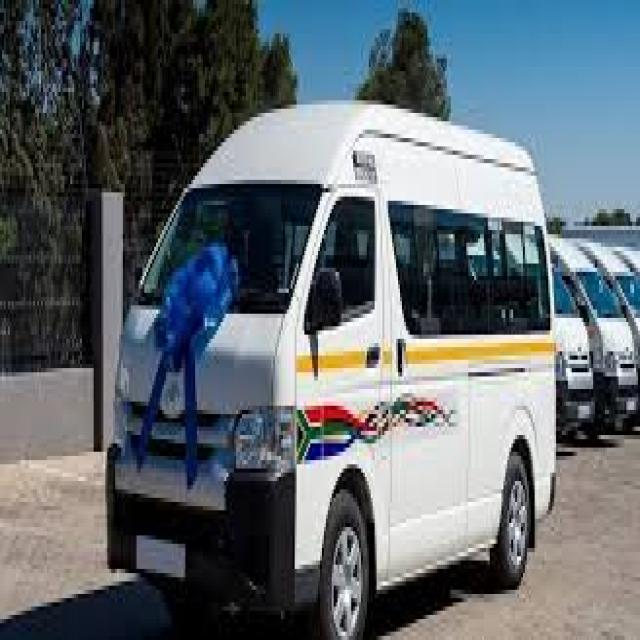MiniBus taxi: (102, 100, 588, 632)
